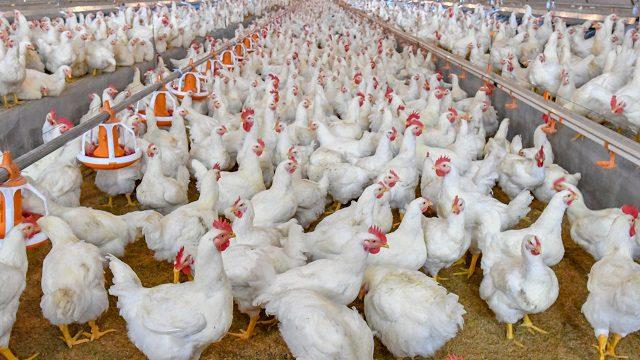Healthy: (102, 214, 236, 355), (253, 220, 390, 322)
